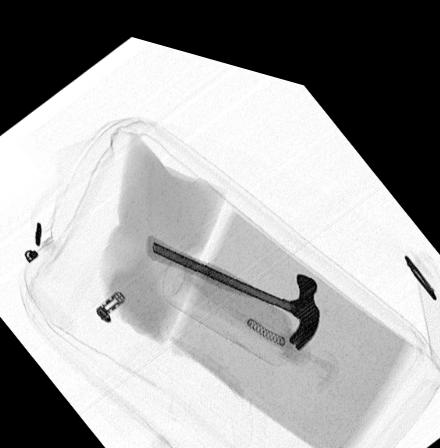Hammer: (145, 225, 322, 335)
